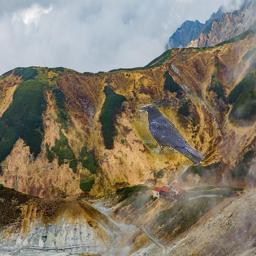Crow: (138, 104, 205, 167)
